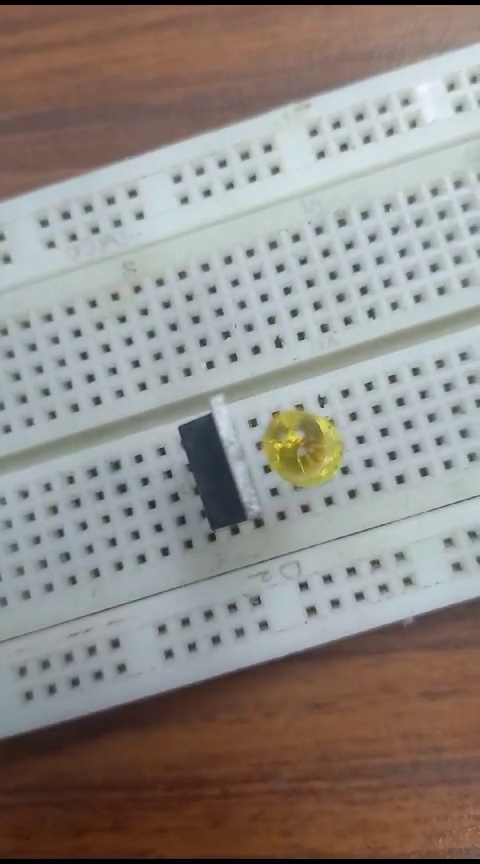LED: (262, 413, 334, 488)
voltage regulator: (163, 392, 259, 535)
